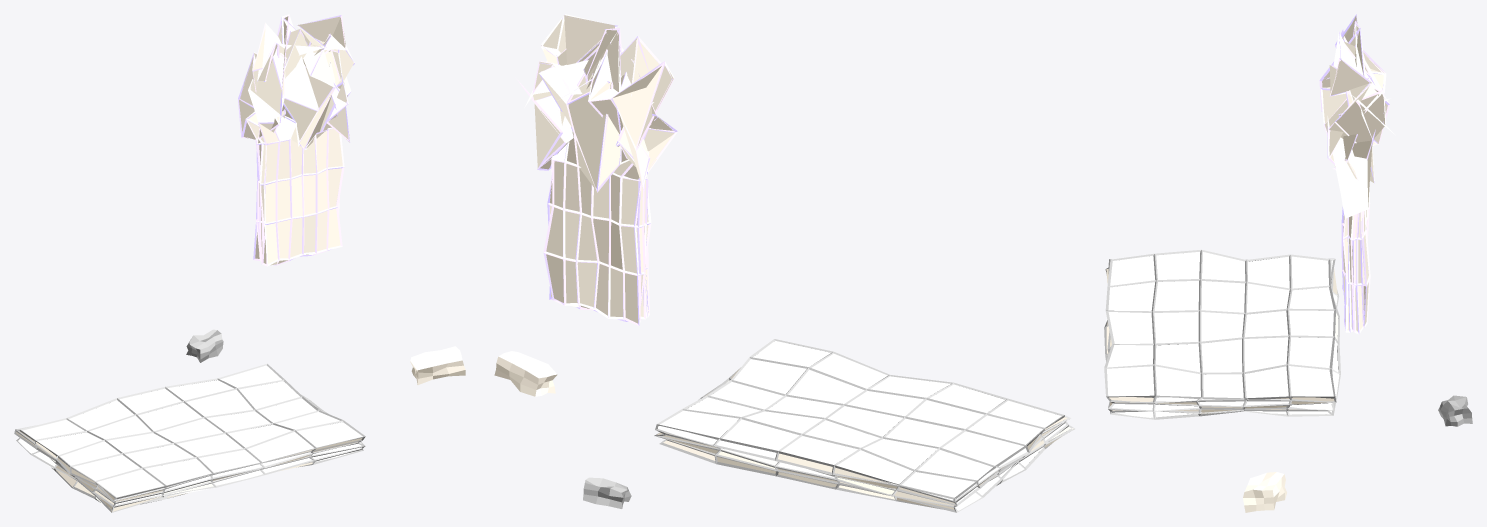
Rendered from Themonolith.glb.
3 views of the same model, side by side, from view 1: azimuth 30°, elevation 25°; view 2: azimuth 150°, elevation 25°; view 3: azimuth 270°, elevation 25° (orthographic). The views are drawn at different scales.
Parts seen in each view (by area): view 1: Slab, Stele, AccentSlab.001, AccentStele, Fragment_0, Fragment_1.001; view 2: Slab, Stele, AccentSlab.001, AccentStele, Fragment_0, Fragment_1.001; view 3: Slab, Stele, AccentSlab.001, AccentStele, Fragment_0, Fragment_1.001.
Part boxes in pixels (bbox=[...]): Slab: bbox=[16, 365, 362, 511]; Stele: bbox=[239, 16, 353, 265]; AccentSlab.001: bbox=[14, 363, 365, 512]; AccentStele: bbox=[238, 14, 354, 266]; Fragment_0: bbox=[410, 346, 465, 384]; Fragment_1.001: bbox=[186, 329, 223, 362]; Slab: bbox=[657, 340, 1073, 510]; Stele: bbox=[533, 15, 675, 323]; AccentSlab.001: bbox=[654, 339, 1074, 512]; AccentStele: bbox=[515, 14, 677, 325]; Fragment_0: bbox=[494, 351, 557, 396]; Fragment_1.001: bbox=[583, 477, 631, 508]; Slab: bbox=[1106, 252, 1339, 417]; Stele: bbox=[1322, 16, 1387, 331]; AccentSlab.001: bbox=[1104, 249, 1340, 419]; AccentStele: bbox=[1319, 14, 1395, 334]; Fragment_0: bbox=[1243, 472, 1286, 512]; Fragment_1.001: bbox=[1438, 395, 1472, 426].
Bounding box in the file's own units: 5.06 × 4.17 × 3.31.
